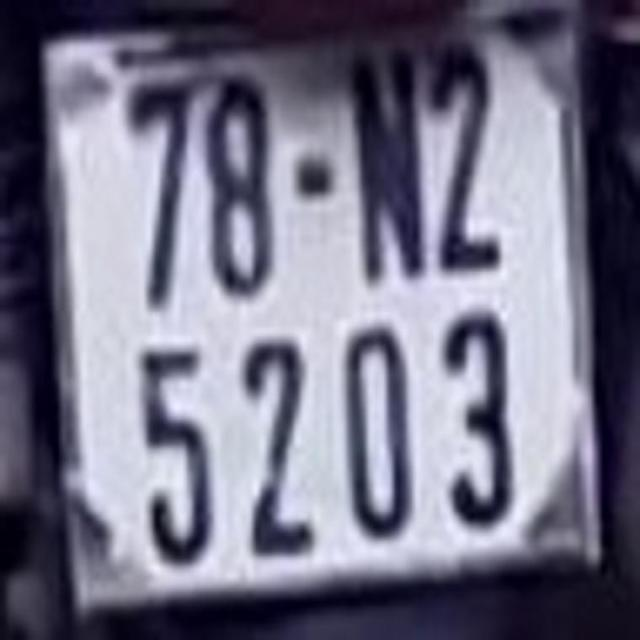0: (343, 324, 414, 540)
2: (431, 39, 505, 276), (241, 336, 316, 558)
3: (441, 310, 516, 530)
5: (138, 345, 217, 567)
7: (124, 77, 192, 309)
8: (205, 77, 272, 298)
N: (350, 52, 426, 281)
